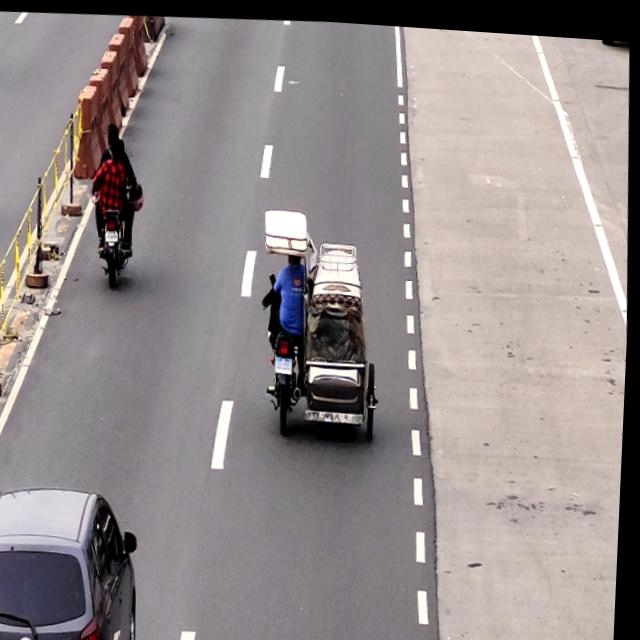License-Plate: (277, 351, 298, 373)
Motorcycle: (0, 476, 149, 640), (91, 122, 140, 289)
Tricycle: (257, 201, 389, 441)
